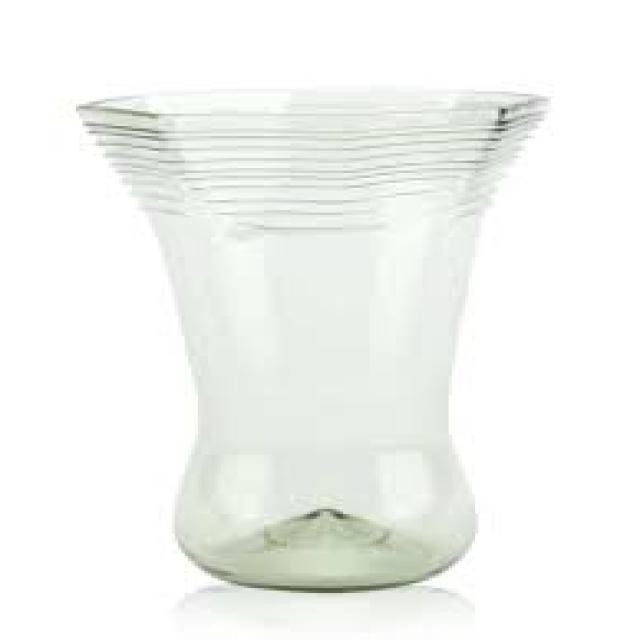glass: (76, 86, 544, 583)
